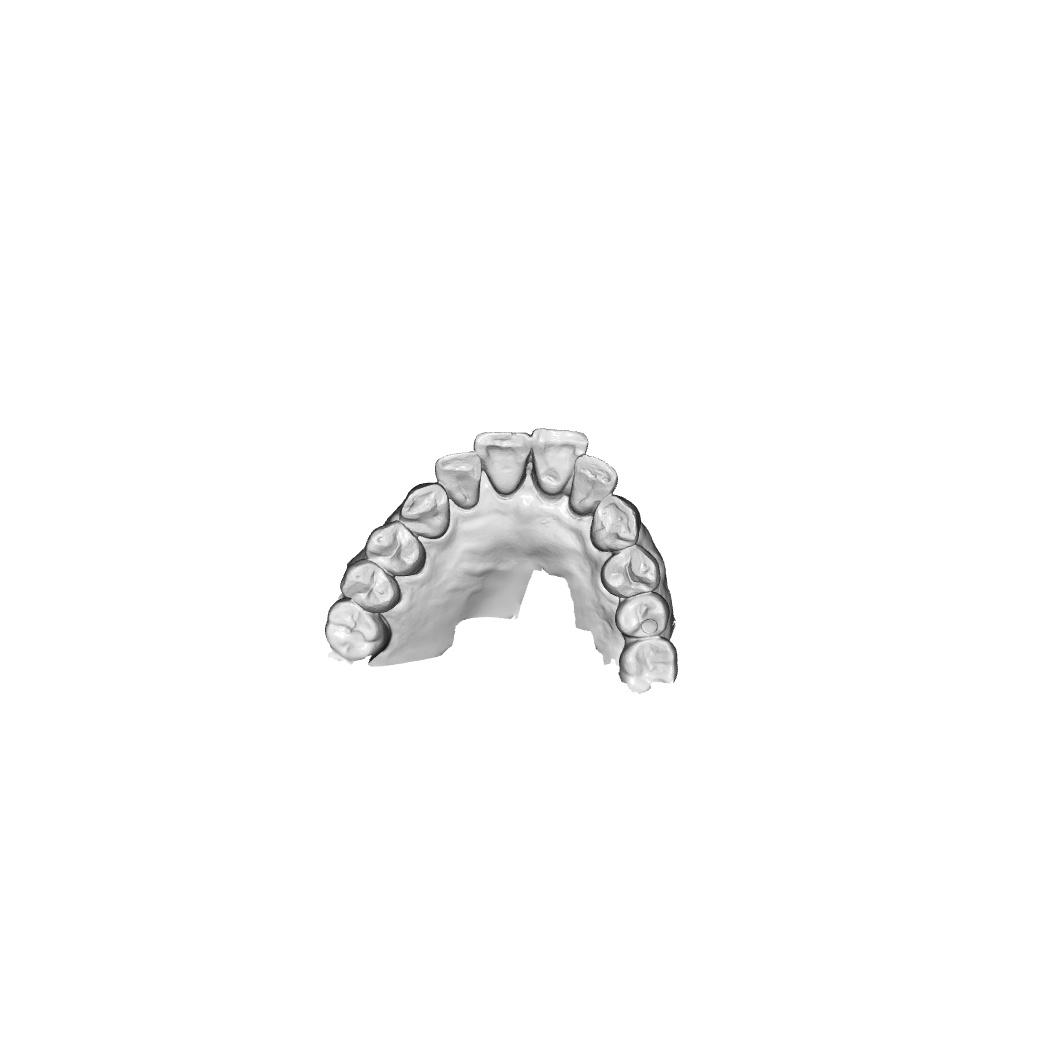canine: (589, 494, 642, 553), (399, 482, 451, 540)
incisor: (531, 427, 589, 496), (473, 429, 531, 496), (568, 453, 619, 516), (434, 450, 483, 510)
molar: (324, 596, 393, 661), (618, 637, 679, 694)
premolar: (364, 520, 427, 577), (340, 558, 403, 614), (600, 543, 661, 599), (615, 591, 670, 638)
